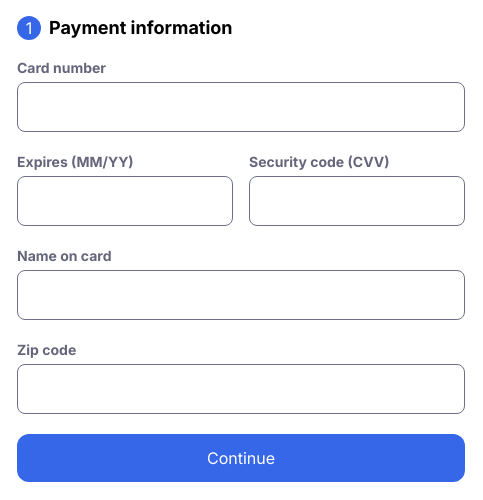
Test: Payment page › valid form will route to /review
Type "4444567891014444" into the field labelled "Card number" at (241, 107), box [17,82,465,132]
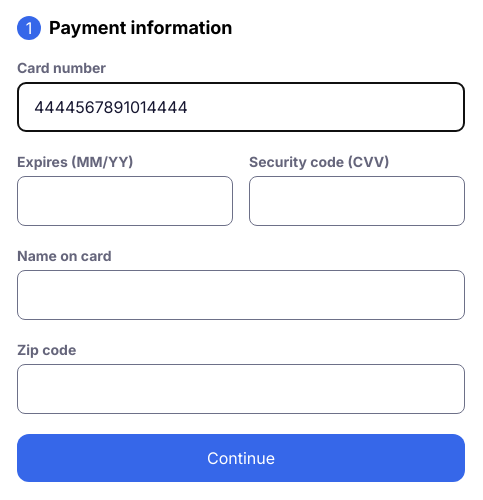
Type "12/22" into the field labelled "Expires (MM/YY)" at (125, 201), box [17,176,233,226]
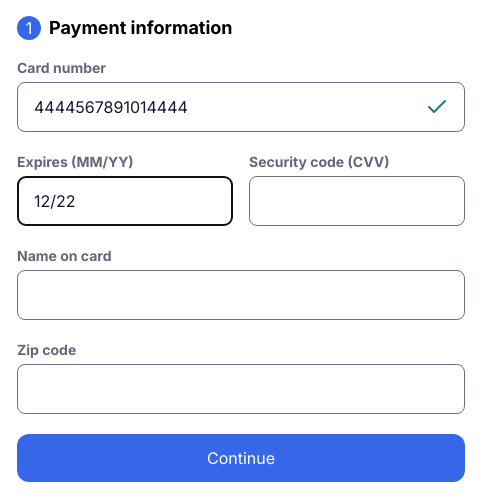
Type "123" into the field labelled "Security code (CVV)" at (357, 201), box [249,176,465,226]
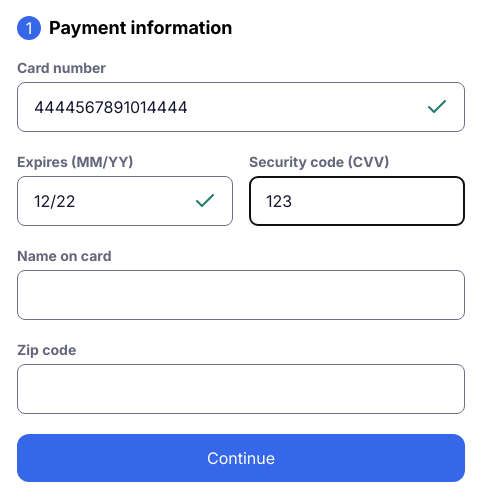
Type "Foo Bar" into the field labelled "Name on card" at (241, 295), box [17,270,465,320]
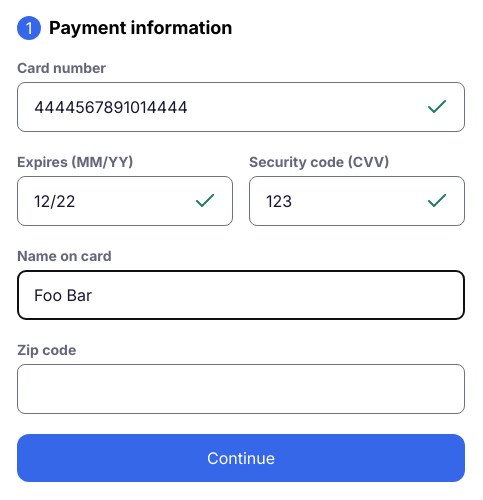
Type "10012" into the field labelled "Zip code" at (241, 389), box [17,364,465,414]
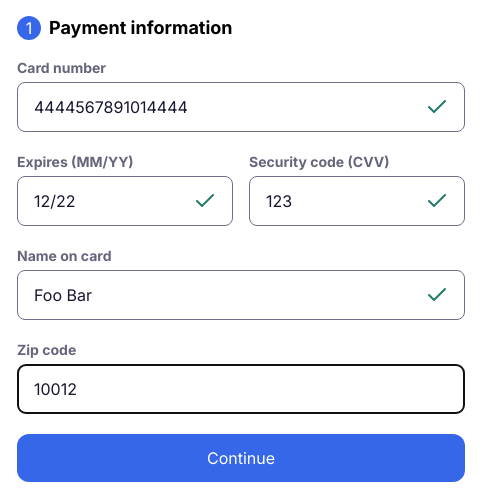
Click the button "Continue" at (241, 458), box [17,434,465,482]
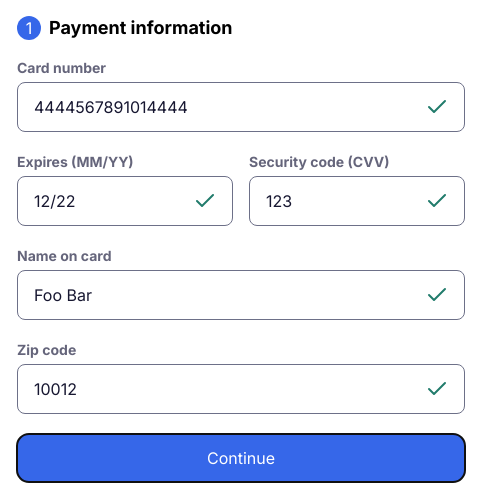
Expected: the number of elements with test id "check-icon" is 5, [425,95,449,119]; [193,189,217,213]; [425,189,449,213]; [425,283,449,307]; [425,377,449,401]
